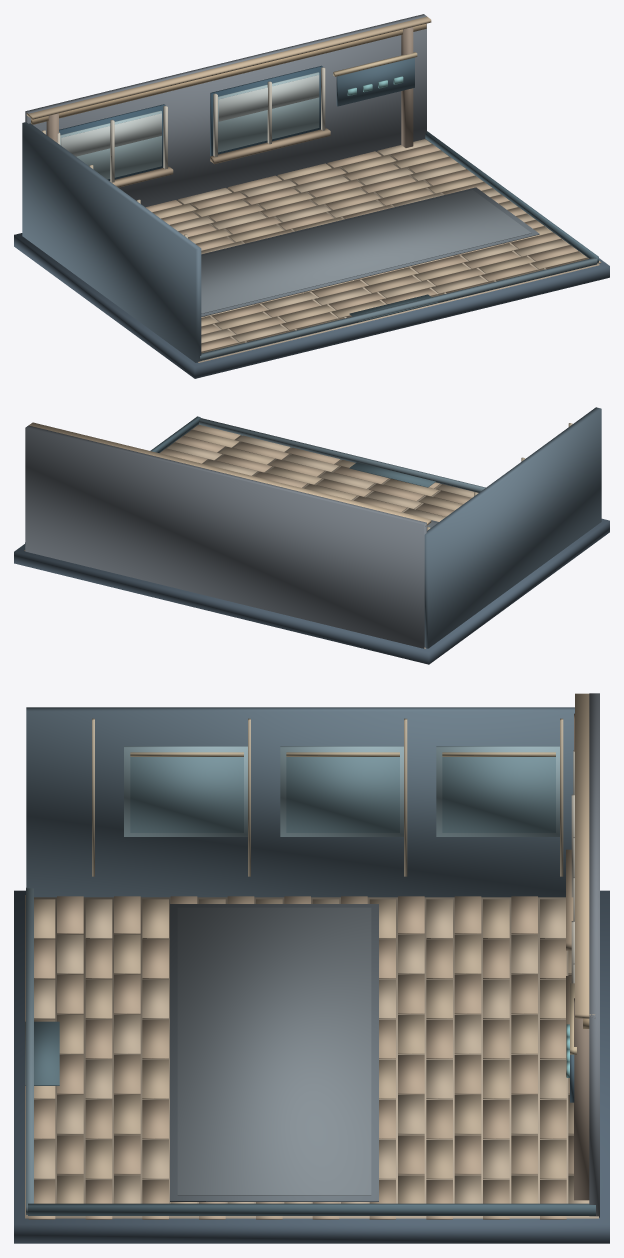
The model's file is f3a-room.glb.
The picture shows the model from 3 angles, top to bottom: view 1: azimuth 30°, elevation 25°; view 2: azimuth 150°, elevation 25°; view 3: azimuth 270°, elevation 25°; orthographic projection. The views are drawn at different scales.
Visible parts, largest first — view 1: f3a-room-part-183, f3a-room-part-165, f3a-room-part-199, f3a-room-part-000, f3a-room-part-177, f3a-room-part-164, f3a-room-part-166, f3a-room-part-170, f3a-room-part-198, f3a-room-part-178, f3a-room-part-001, f3a-room-part-201 (+9 smaller); view 2: f3a-room-part-165, f3a-room-part-183, f3a-room-part-000, f3a-room-part-164, f3a-room-part-166, f3a-room-part-206, f3a-room-part-136, f3a-room-part-137, f3a-room-part-141, f3a-room-part-151, f3a-room-part-133, f3a-room-part-142 (+13 smaller); view 3: f3a-room-part-183, f3a-room-part-199, f3a-room-part-000, f3a-room-part-001, f3a-room-part-185, f3a-room-part-188, f3a-room-part-191, f3a-room-part-163, f3a-room-part-198, f3a-room-part-165, f3a-room-part-166, f3a-room-part-168 (+91 smaller).
Boxes of the visible parts, bbox=[...] form: f3a-room-part-183: bbox=[22, 122, 201, 362]; f3a-room-part-165: bbox=[25, 14, 426, 207]; f3a-room-part-199: bbox=[201, 190, 531, 313]; f3a-room-part-000: bbox=[14, 233, 609, 378]; f3a-room-part-177: bbox=[218, 72, 319, 152]; f3a-room-part-164: bbox=[200, 257, 597, 360]; f3a-room-part-166: bbox=[26, 16, 431, 119]; f3a-room-part-170: bbox=[60, 110, 161, 179]; f3a-room-part-198: bbox=[201, 187, 539, 316]; f3a-room-part-178: bbox=[218, 75, 319, 121]; f3a-room-part-001: bbox=[177, 139, 599, 362]; f3a-room-part-201: bbox=[336, 58, 414, 106]; f3a-room-part-165: bbox=[25, 425, 426, 648]; f3a-room-part-183: bbox=[424, 407, 601, 648]; f3a-room-part-000: bbox=[14, 518, 609, 664]; f3a-room-part-164: bbox=[199, 418, 485, 492]; f3a-room-part-166: bbox=[29, 422, 431, 526]; f3a-room-part-206: bbox=[349, 462, 435, 487]; f3a-room-part-136: bbox=[216, 454, 272, 472]; f3a-room-part-137: bbox=[166, 442, 222, 460]; f3a-room-part-141: bbox=[369, 483, 424, 501]; f3a-room-part-151: bbox=[283, 454, 339, 472]; f3a-room-part-133: bbox=[366, 491, 421, 508]; f3a-room-part-142: bbox=[319, 471, 374, 489]; f3a-room-part-183: bbox=[26, 707, 574, 897]; f3a-room-part-199: bbox=[177, 907, 371, 1195]; f3a-room-part-000: bbox=[14, 890, 609, 1243]; f3a-room-part-001: bbox=[25, 895, 598, 1218]; f3a-room-part-185: bbox=[442, 757, 555, 832]; f3a-room-part-188: bbox=[286, 757, 399, 832]; f3a-room-part-191: bbox=[130, 757, 243, 832]; f3a-room-part-163: bbox=[28, 1203, 595, 1215]; f3a-room-part-198: bbox=[170, 904, 378, 1201]; f3a-room-part-165: bbox=[589, 693, 599, 1217]; f3a-room-part-166: bbox=[575, 693, 594, 1018]; f3a-room-part-168: bbox=[574, 998, 589, 1200].
Size of the model in its own units: 12.65 by 3.95 by 9.55.
